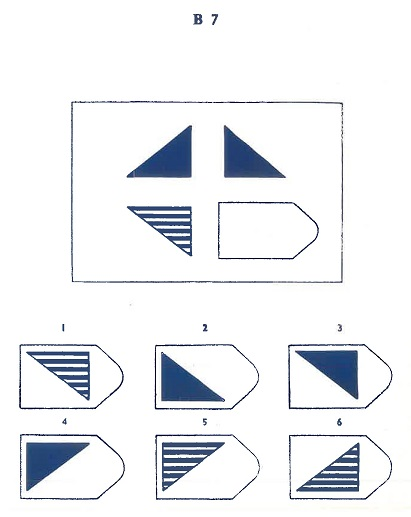Array 1: (15, 320, 126, 413)
Array 2: (147, 319, 265, 414)
Array 3: (285, 319, 395, 413)
Array 4: (16, 414, 128, 503)
Array 5: (148, 416, 266, 504)
Array 6: (285, 414, 395, 503)
Matrix 1: (120, 120, 196, 184)
Matrix 2: (218, 118, 291, 185)
Matrix 3: (123, 200, 198, 261)
Matrix Unknown: (214, 196, 322, 263)
